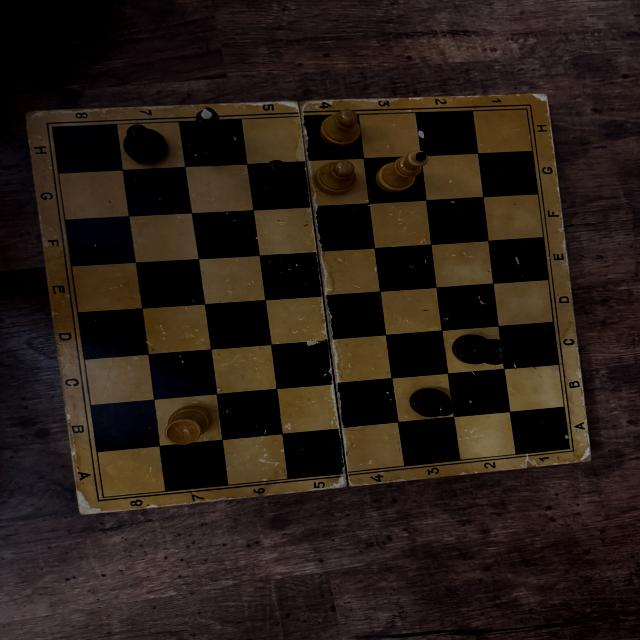black-king: (189, 108, 239, 164)
black-pawn: (123, 124, 171, 166), (254, 159, 300, 200), (410, 385, 456, 419)
black-rook: (452, 333, 512, 368)
white-king: (372, 150, 432, 195)
white-pawn: (320, 109, 362, 146), (315, 159, 355, 196)
white-rook: (166, 404, 213, 445)
